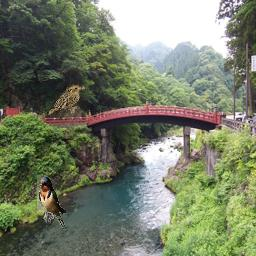Sparrow: (37, 85, 85, 120)
Swallow: (38, 176, 67, 231)
